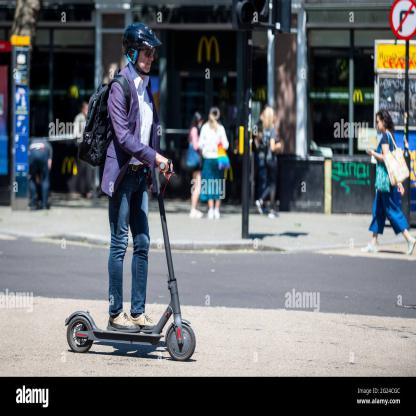scooter: (64, 157, 196, 360)
with helmet: (121, 22, 161, 76)
